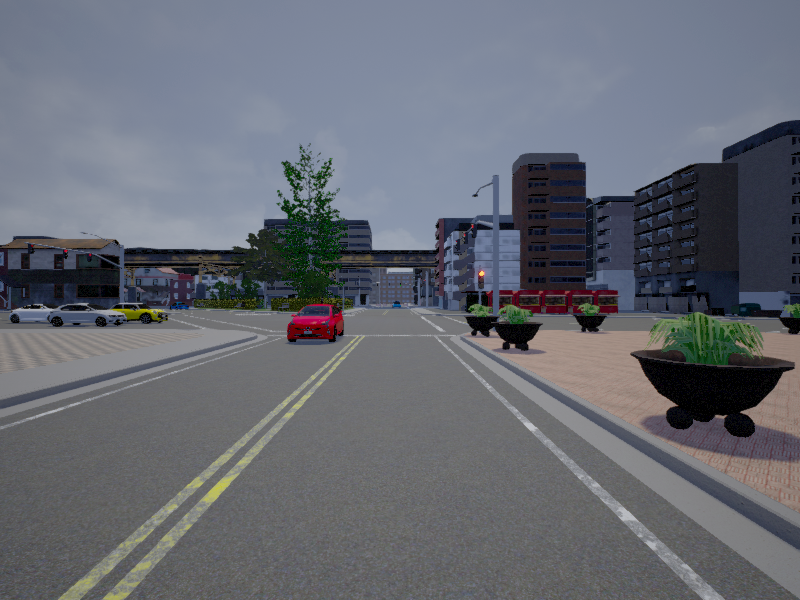Benign: (287, 303, 345, 342), (50, 305, 126, 327), (111, 302, 168, 323), (11, 304, 57, 323)
